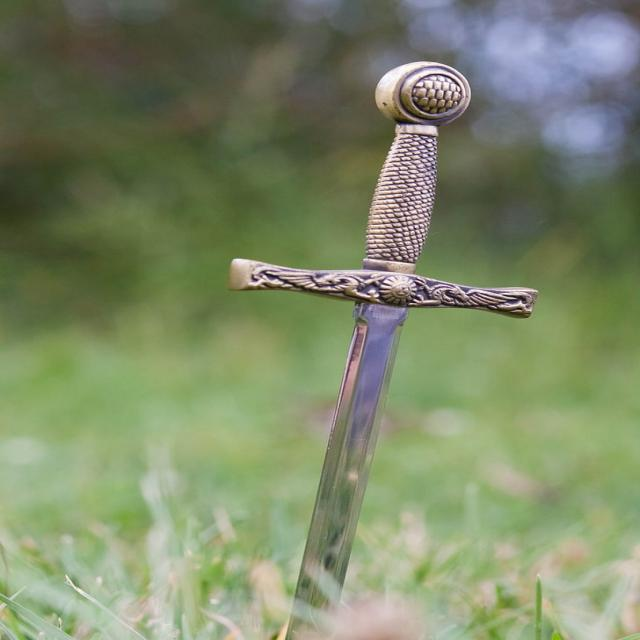knife: (225, 55, 542, 638)
